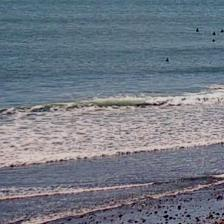surfer: (165, 58, 169, 62), (212, 32, 216, 36), (220, 29, 224, 33), (212, 38, 215, 42), (196, 28, 199, 32)
